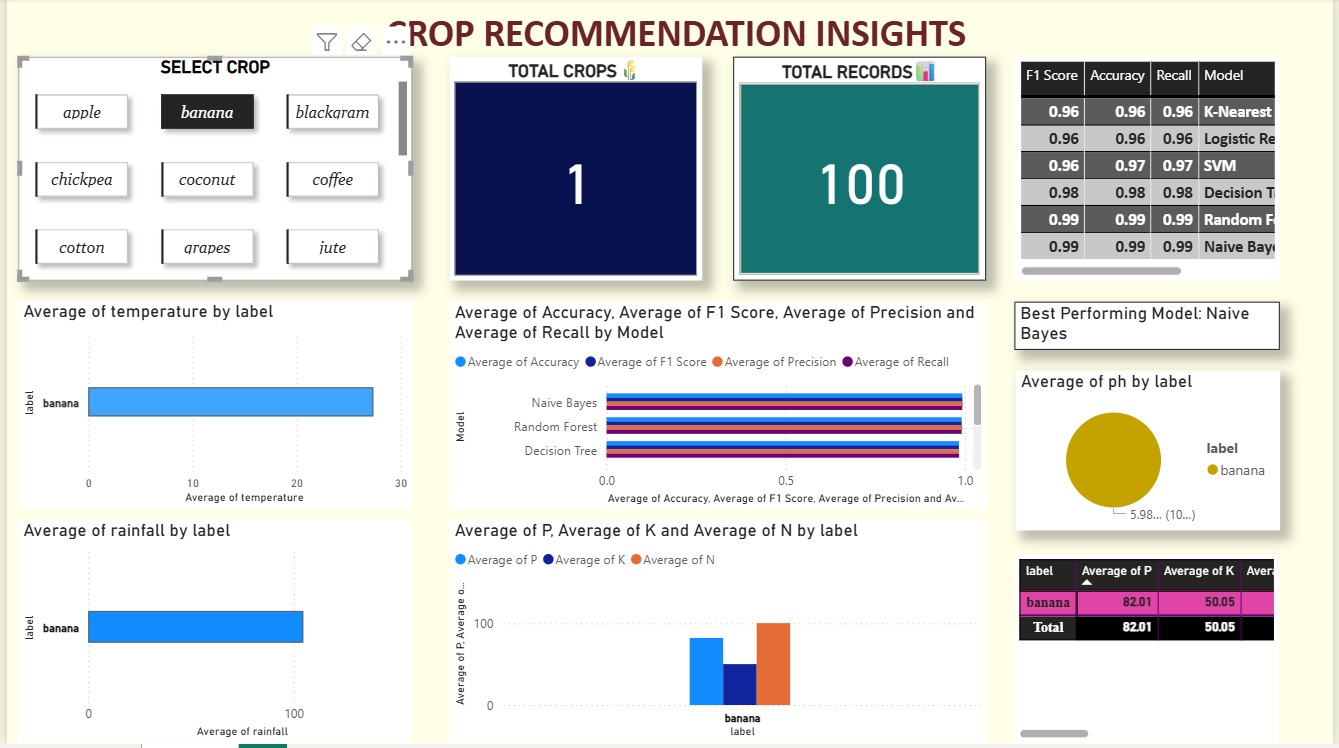

What the dashboard file says about the page in this screenshot:
{"tool":"powerbi","page":{"name":"Page 2","canvas":[1280,720],"ordinal":0},"visuals":[{"type":"advancedSlicerVisual","title":"SELECT CROP","fields":{"Values":["Crop_dataset.label"]},"box":[10.5,57,380.2,216.3],"z":0},{"type":"textbox","title":"CROP RECOMMENDATION INSIGHTS","box":[360.5,10.5,584.9,46.5],"z":1000},{"type":"cardVisual","title":"TOTAL CROPS🌾","fields":{"Data":["Count(Crop_dataset.label)"]},"box":[426.7,57,244.2,216.3],"z":2000},{"type":"cardVisual","title":"TOTAL RECORDS📊","fields":{"Data":["CountNonNull(Crop_dataset.label)"]},"box":[701.2,57,244.2,216.3],"z":3000},{"type":"clusteredBarChart","fields":{"Category":["Crop_dataset.label"],"Y":["Avg(Crop_dataset.temperature)"]},"box":[10.5,291.9,380.2,201.2],"z":4000},{"type":"clusteredBarChart","fields":{"Category":["Crop_dataset.label"],"Y":["Avg(Crop_dataset.rainfall)"]},"box":[10.5,503.5,380.2,216.3],"z":5000},{"type":"clusteredColumnChart","fields":{"Y":["Avg(Crop_dataset.P)","Avg(Crop_dataset.K)","Avg(Crop_dataset.N)"],"Category":["Crop_dataset.label"]},"box":[426.7,503.5,518.6,216.3],"z":6000},{"type":"tableEx","fields":{"Values":["Model_Comparison_Final.F1 Score","Model_Comparison_Final.Accuracy","Model_Comparison_Final.Recall","Model_Comparison_Final.Model","Model_Comparison_Final.Precision"]},"box":[972.1,57,255.8,216.3],"z":7000},{"type":"clusteredBarChart","fields":{"Category":["Model_Comparison_Final.Model"],"Y":["Avg(Model_Comparison_Final.Accuracy)","Avg(Model_Comparison_Final.F1 Score)","Avg(Model_Comparison_Final.Precision)","Avg(Model_Comparison_Final.Recall)"]},"box":[426.7,293,518.6,201.2],"z":8000},{"type":"clusteredBarChart","box":[972.1,293,255.8,46.5],"z":9000},{"type":"pivotTable","fields":{"Rows":["Crop_dataset.label"],"Values":["Avg(Crop_dataset.P)","Avg(Crop_dataset.K)","Avg(Crop_dataset.humidity)","Avg(Crop_dataset.rainfall)","Avg(Crop_dataset.N)","Avg(Crop_dataset.ph)","Avg(Crop_dataset.temperature)"]},"box":[972.4,536.8,255.2,182.8],"z":10000},{"type":"pieChart","fields":{"Category":["Crop_dataset.label"],"Y":["Avg(Crop_dataset.ph)"]},"box":[973.6,359.8,255.2,154],"z":11000}]}

Visuals, with their boxes in screenshot pixels (x1, y1, x2, y2):
"SELECT CROP" advancedSlicerVisual: l=21, t=76, r=412, b=298
"CROP RECOMMENDATION INSIGHTS" textbox: l=381, t=28, r=981, b=76
"TOTAL CROPS🌾" cardVisual: l=449, t=76, r=699, b=298
"TOTAL RECORDS📊" cardVisual: l=730, t=76, r=981, b=298
clusteredBarChart - Crop_dataset.label x Avg(Crop_dataset.temperature): l=21, t=317, r=412, b=524
clusteredBarChart - Crop_dataset.label x Avg(Crop_dataset.rainfall): l=21, t=534, r=412, b=747
clusteredColumnChart - Avg(Crop_dataset.P) x Avg(Crop_dataset.K): l=449, t=534, r=981, b=747
tableEx - Model_Comparison_Final.F1 Score x Model_Comparison_Final.Accuracy: l=1009, t=76, r=1271, b=298
clusteredBarChart - Model_Comparison_Final.Model x Avg(Model_Comparison_Final.Accuracy): l=449, t=318, r=981, b=525
clusteredBarChart: l=1009, t=318, r=1271, b=366
pivotTable - Crop_dataset.label x Avg(Crop_dataset.P): l=1009, t=569, r=1271, b=747
pieChart - Crop_dataset.label x Avg(Crop_dataset.ph): l=1010, t=387, r=1272, b=545
